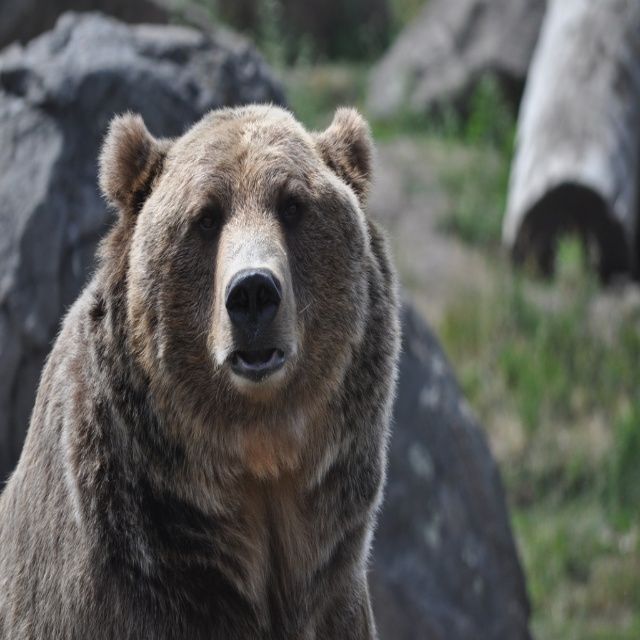Brown bear: (1, 99, 408, 639)
